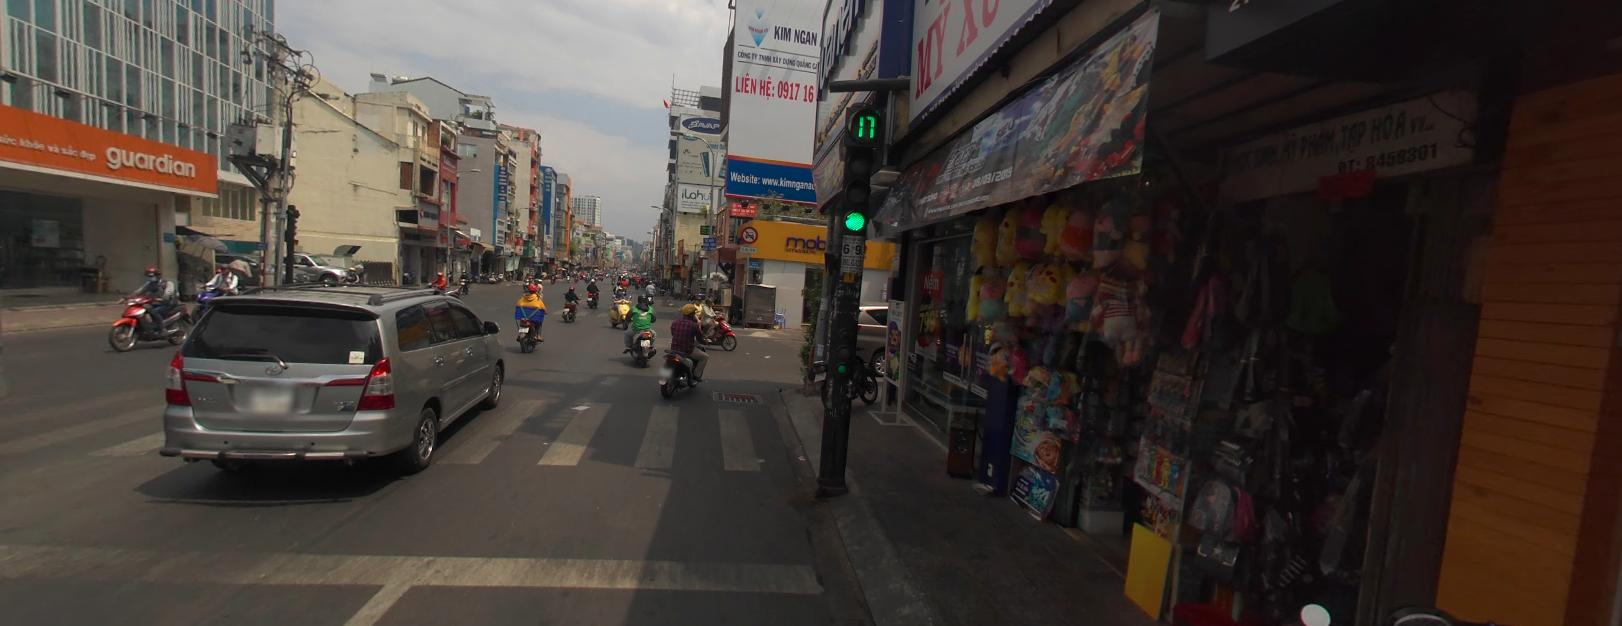Cam con lai: (741, 225, 757, 241)
